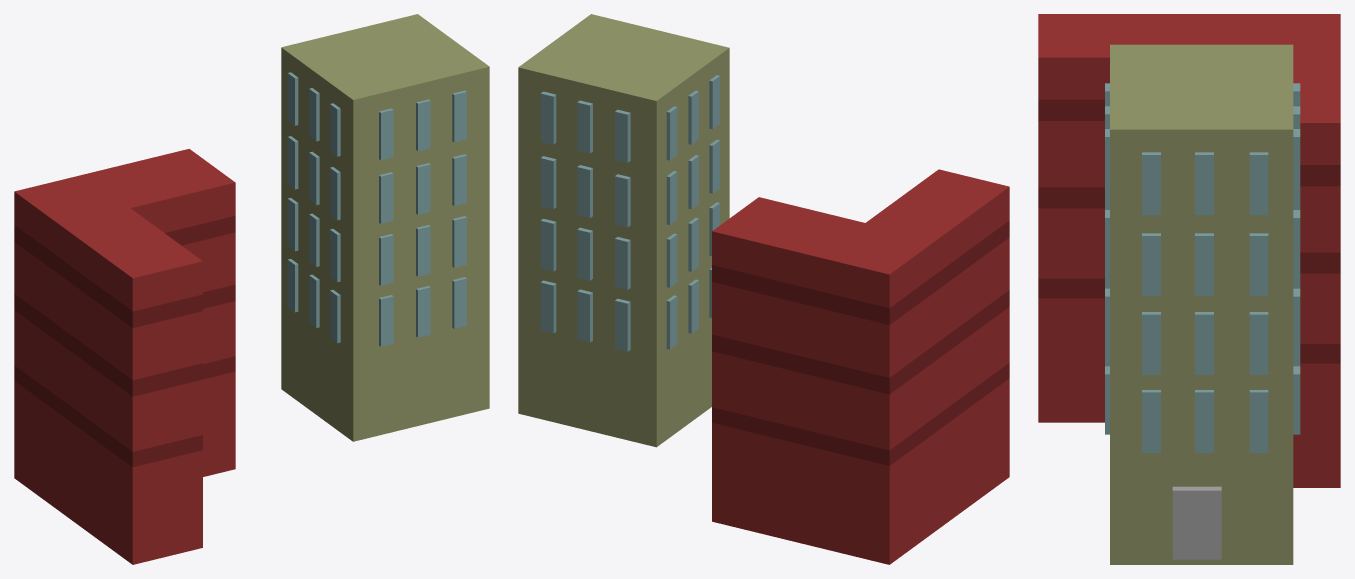
Rendered from Buildings3.fbx.
The picture shows the model from 3 angles, left to right: view 1: azimuth 30°, elevation 25°; view 2: azimuth 150°, elevation 25°; view 3: azimuth 270°, elevation 25°; orthographic projection. The views are drawn at different scales.
Parts seen in each view (by area): view 1: Buildings3; view 2: Buildings3; view 3: Buildings3.
Part boxes in pixels (<box>): Buildings3: <box>14,14,489,564</box>; Buildings3: <box>518,14,1009,564</box>; Buildings3: <box>1038,14,1340,564</box>.
Size of the model in its own units: 46.18 by 43.23 by 24.23.
